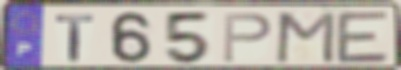5: (162, 10, 218, 66)
6: (108, 10, 156, 67)
E: (335, 9, 392, 66)
M: (272, 10, 338, 65)
P: (221, 12, 274, 64)
T: (53, 14, 96, 64)
